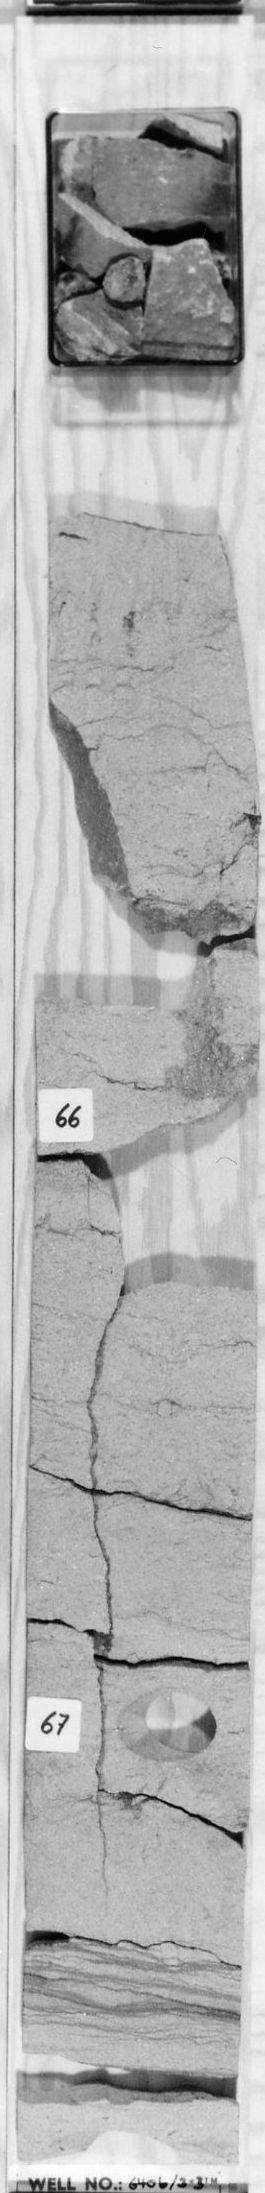hplug: (111, 1683, 226, 1773), (137, 920, 226, 1020), (74, 2109, 188, 2164)
